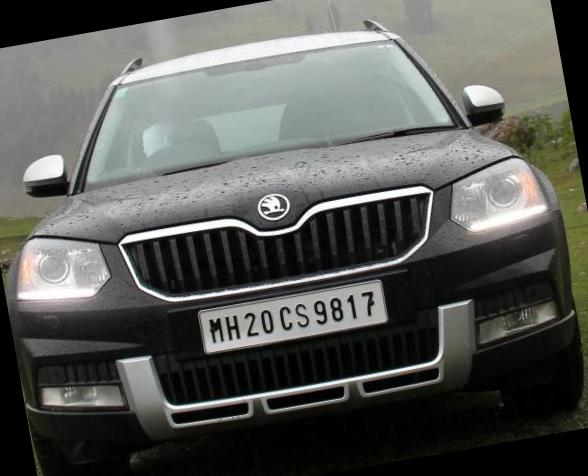plate: (189, 263, 397, 368)
